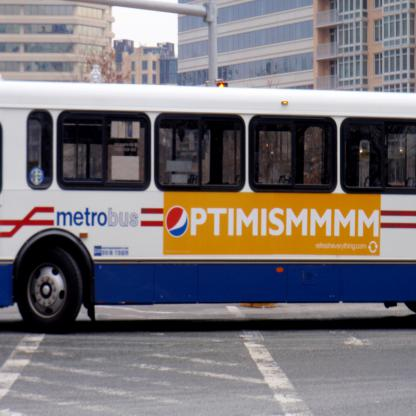Bus: (0, 80, 416, 333)
